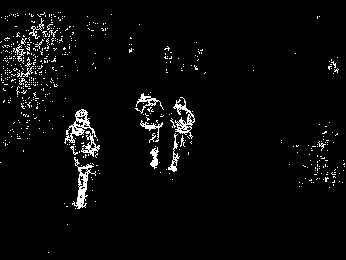person: (63, 109, 101, 209), (136, 91, 165, 169), (169, 96, 195, 172)
